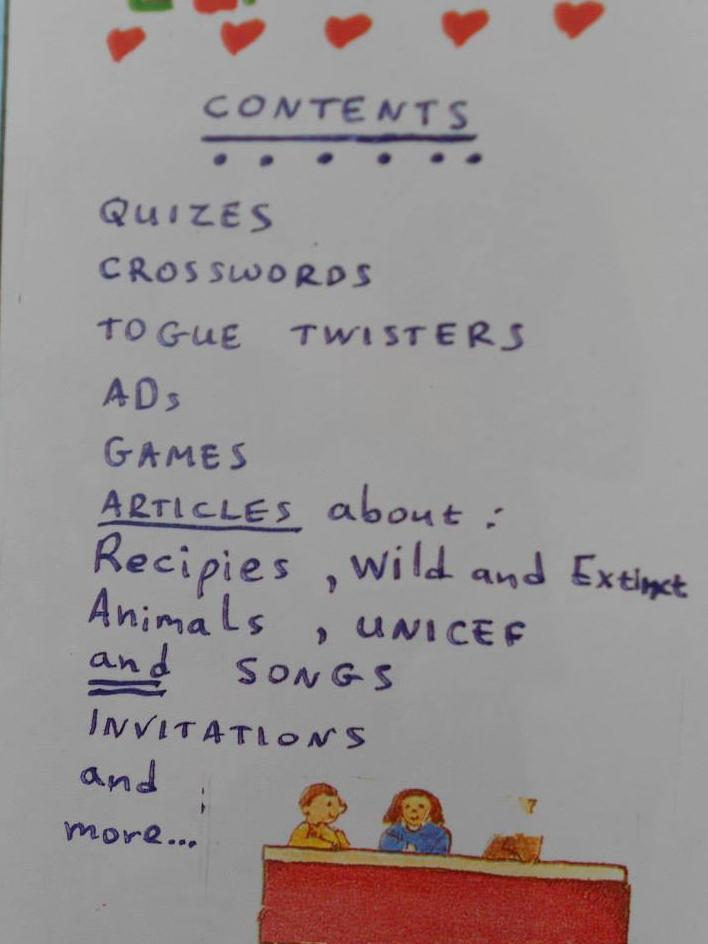text: (84, 529, 694, 602), (86, 584, 532, 648), (99, 479, 506, 532), (95, 310, 529, 356), (86, 640, 395, 699), (84, 704, 368, 754), (203, 88, 472, 136), (97, 252, 378, 292), (95, 192, 274, 239), (105, 429, 252, 478), (60, 814, 199, 853), (99, 370, 185, 419), (78, 756, 159, 801)
